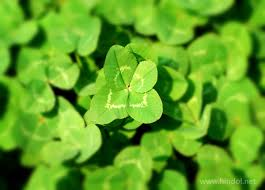4-clover: (96, 44, 164, 126)
